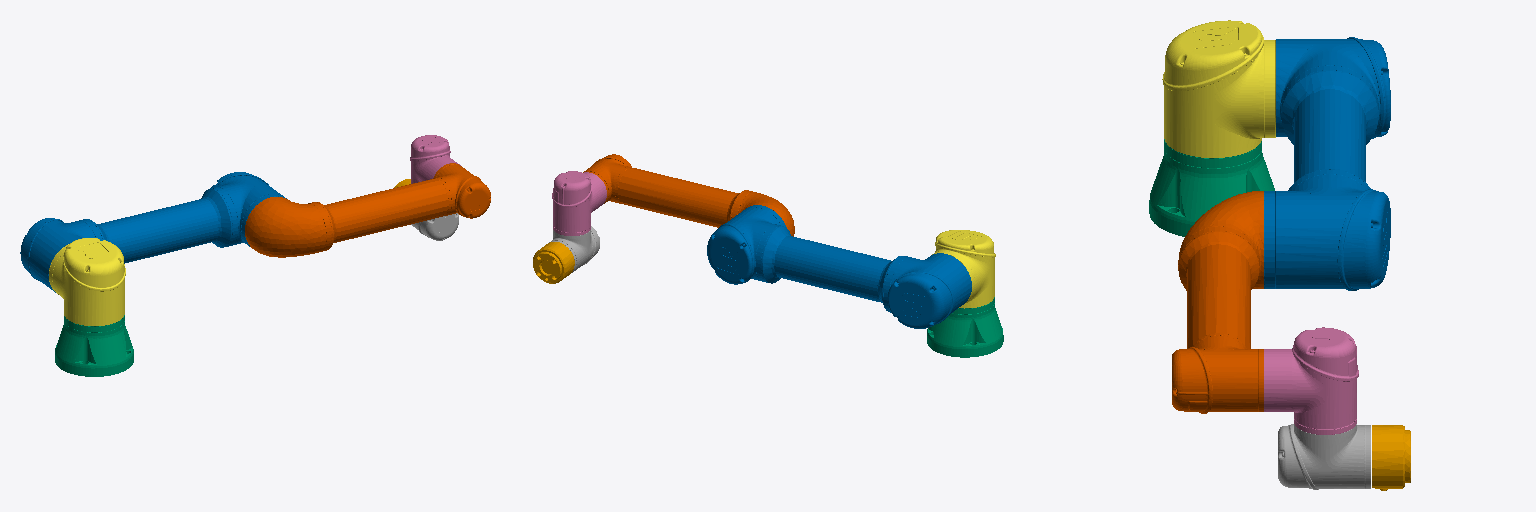
URDF robot description (ur5e):
<?xml version="1.0" ?>
<!-- =================================================================================== -->
<!-- |    This document was autogenerated by xacro from /opt/ros/jazzy/share/ur_description/urdf/ur.urdf.xacro | -->
<!-- |    EDITING THIS FILE BY HAND IS NOT RECOMMENDED                                 | -->
<!-- =================================================================================== -->
<robot name="ur5e">
  <!--
    Base UR robot series xacro macro.

    NOTE this is NOT a URDF. It cannot directly be loaded by consumers
    expecting a flattened '.urdf' file. See the top-level '.xacro' for that
    (but note that .xacro must still be processed by the xacro command).

    This file models the base kinematic chain of a UR robot, which then gets
    parameterised by various configuration files to convert it into a UR3(e),
    UR5(e), UR10(e) or UR16e.

    NOTE the default kinematic parameters (i.e., link lengths, frame locations,
    offsets, etc) do not correspond to any particular robot. They are defaults
    only. There WILL be non-zero offsets between the Forward Kinematics results
    in TF (i.e., robot_state_publisher) and the values reported by the Teach
    Pendant.

    For accurate (and robot-specific) transforms, the 'kinematics_parameters_file'
    parameter MUST point to a .yaml file containing the appropriate values for
    the targeted robot.

    If using the UniversalRobots/Universal_Robots_ROS_Driver, follow the steps
    described in the readme of that repository to extract the kinematic
    calibration from the controller and generate the required .yaml file.

    Main author of the migration to yaml configs [author].

    Contributors to previous versions (in no particular order)

     - [author]
     - [author]
     - [author]
     - [author]
     - [author]
     - [author]
     - [author]
     - [author]
     - [author]
     - [author]
     - [author]
     - [author]
     - [author]
     - [author]
     - [author]
     - [author]
     - [author]
     - [author]
     - [author]
  -->
  <!-- create link fixed to the "world" -->
  <link name="world"/>
  <!-- links -  main serial chain -->
  <link name="base_link"/>
  <link name="base_link_inertia">
    <visual>
      <origin rpy="0 0 3.141592653589793" xyz="0 0 0"/>
      <geometry>
        <mesh filename="./meshes/ur5e/visual/base.obj"/>
      </geometry>
    </visual>
    <collision>
      <origin rpy="0 0 3.141592653589793" xyz="0 0 0"/>
      <geometry>
        <mesh filename="./meshes/ur5e/collision/base.obj"/>
      </geometry>
    </collision>
    <inertial>
      <mass value="4.0"/>
      <origin rpy="0 0 0" xyz="0 0 0"/>
      <inertia ixx="0.00443333156" ixy="0.0" ixz="0.0" iyy="0.00443333156" iyz="0.0" izz="0.0072"/>
    </inertial>
  </link>
  <link name="shoulder_link">
    <visual>
      <origin rpy="0 0 3.141592653589793" xyz="0 0 0"/>
      <geometry>
        <mesh filename="./meshes/ur5e/visual/shoulder.obj"/>
      </geometry>
    </visual>
    <collision>
      <origin rpy="0 0 3.141592653589793" xyz="0 0 0"/>
      <geometry>
        <mesh filename="./meshes/ur5e/collision/shoulder.obj"/>
      </geometry>
    </collision>
    <inertial>
      <mass value="3.761"/>
      <origin rpy="1.570796326794897 0 0" xyz="0.0 -0.00193 -0.02561"/>
      <inertia ixx="0.0070021" ixy="7.3e-07" ixz="-1.053e-05" iyy="0.00648091" iyz="0.00049994" izz="0.00657286"/>
    </inertial>
  </link>
  <link name="upper_arm_link">
    <visual>
      <origin rpy="1.5707963267948966 0 -1.5707963267948966" xyz="0 0 0.138"/>
      <geometry>
        <mesh filename="./meshes/ur5e/visual/upperarm.obj"/>
      </geometry>
    </visual>
    <collision>
      <origin rpy="1.5707963267948966 0 -1.5707963267948966" xyz="0 0 0.138"/>
      <geometry>
        <mesh filename="./meshes/ur5e/collision/upperarm.obj"/>
      </geometry>
    </collision>
    <inertial>
      <mass value="8.058"/>
      <origin rpy="0 0 0" xyz="-0.2125 0.0 0.11336"/>
      <inertia ixx="0.01505885" ixy="-5.4e-05" ixz="5.63e-06" iyy="0.33388086" iyz="-1.81e-06" izz="0.33247207"/>
    </inertial>
  </link>
  <link name="forearm_link">
    <visual>
      <origin rpy="1.5707963267948966 0 -1.5707963267948966" xyz="0 0 0.007"/>
      <geometry>
        <mesh filename="./meshes/ur5e/visual/forearm.obj"/>
      </geometry>
    </visual>
    <collision>
      <origin rpy="1.5707963267948966 0 -1.5707963267948966" xyz="0 0 0.007"/>
      <geometry>
        <mesh filename="./meshes/ur5e/collision/forearm.obj"/>
      </geometry>
    </collision>
    <inertial>
      <mass value="2.846"/>
      <origin rpy="0 0 0" xyz="-0.2422 0.0 0.0265"/>
      <inertia ixx="0.00399632" ixy="-1.365e-05" ixz="0.00137272" iyy="0.07879254" iyz="-6.6e-06" izz="0.0784851"/>
    </inertial>
  </link>
  <link name="wrist_1_link">
    <visual>
      <origin rpy="1.5707963267948966 0 0" xyz="0 0 -0.127"/>
      <geometry>
        <mesh filename="./meshes/ur5e/visual/wrist1.obj"/>
      </geometry>
    </visual>
    <collision>
      <origin rpy="1.5707963267948966 0 0" xyz="0 0 -0.127"/>
      <geometry>
        <mesh filename="./meshes/ur5e/collision/wrist1.obj"/>
      </geometry>
    </collision>
    <inertial>
      <mass value="1.37"/>
      <origin rpy="1.570796326794897 0 0" xyz="0.0 -0.01634 -0.0018"/>
      <inertia ixx="0.00165491" ixy="-2.82e-06" ixz="-4.38e-06" iyy="0.00135962" iyz="0.00010157" izz="0.00126279"/>
    </inertial>
  </link>
  <link name="wrist_2_link">
    <visual>
      <origin rpy="0 0 0" xyz="0 0 -0.0997"/>
      <geometry>
        <mesh filename="./meshes/ur5e/visual/wrist2.obj"/>
      </geometry>
    </visual>
    <collision>
      <origin rpy="0 0 0" xyz="0 0 -0.0997"/>
      <geometry>
        <mesh filename="./meshes/ur5e/collision/wrist2.obj"/>
      </geometry>
    </collision>
    <inertial>
      <mass value="1.3"/>
      <origin rpy="-1.570796326794897 0 0" xyz="0.0 0.01634 -0.0018"/>
      <inertia ixx="0.00135617" ixy="-2.74e-06" ixz="4.44e-06" iyy="0.00127827" iyz="-5.048e-05" izz="0.00096614"/>
    </inertial>
  </link>
  <link name="wrist_3_link">
    <visual>
      <origin rpy="1.5707963267948966 0 0" xyz="0 0 -0.0989"/>
      <geometry>
        <mesh filename="./meshes/ur5e/visual/wrist3.obj"/>
      </geometry>
    </visual>
    <collision>
      <origin rpy="1.5707963267948966 0 0" xyz="0 0 -0.0989"/>
      <geometry>
        <mesh filename="./meshes/ur5e/collision/wrist3.obj"/>
      </geometry>
    </collision>
    <inertial>
      <mass value="0.365"/>
      <origin rpy="0 0 0" xyz="0.0 0.0 -0.001159"/>
      <inertia ixx="0.00018694" ixy="6e-08" ixz="-1.7e-07" iyy="0.00018908" iyz="-9.2e-07" izz="0.00025756"/>
    </inertial>
  </link>
  <!-- base_joint fixes base_link to the environment -->
  <joint name="base_joint" type="fixed">
    <origin rpy="0 0 0" xyz="0 0 0"/>
    <parent link="world"/>
    <child link="base_link"/>
  </joint>
  <!-- joints - main serial chain -->
  <joint name="base_link-base_link_inertia" type="fixed">
    <parent link="base_link"/>
    <child link="base_link_inertia"/>
    <!-- 'base_link' is REP-103 aligned (so X+ forward), while the internal
           frames of the robot/controller have X+ pointing backwards.
           Use the joint between 'base_link' and 'base_link_inertia' (a dummy
           link/frame) to introduce the necessary rotation over Z (of pi rad).
      -->
    <origin rpy="0 0 3.141592653589793" xyz="0 0 0"/>
  </joint>
  <joint name="shoulder_pan_joint" type="revolute">
    <parent link="base_link_inertia"/>
    <child link="shoulder_link"/>
    <origin rpy="0 0 0" xyz="0 0 0.1625"/>
    <axis xyz="0 0 1"/>
    <limit effort="150.0" lower="-6.283185307179586" upper="6.283185307179586" velocity="3.141592653589793"/>
    <dynamics damping="0" friction="0"/>
  </joint>
  <joint name="shoulder_lift_joint" type="revolute">
    <parent link="shoulder_link"/>
    <child link="upper_arm_link"/>
    <origin rpy="1.570796327 0 0" xyz="0 0 0"/>
    <axis xyz="0 0 1"/>
    <limit effort="150.0" lower="-6.283185307179586" upper="6.283185307179586" velocity="3.141592653589793"/>
    <dynamics damping="0" friction="0"/>
  </joint>
  <joint name="elbow_joint" type="revolute">
    <parent link="upper_arm_link"/>
    <child link="forearm_link"/>
    <origin rpy="0 0 0" xyz="-0.425 0 0"/>
    <axis xyz="0 0 1"/>
    <limit effort="150.0" lower="-3.141592653589793" upper="3.141592653589793" velocity="3.141592653589793"/>
    <dynamics damping="0" friction="0"/>
  </joint>
  <joint name="wrist_1_joint" type="revolute">
    <parent link="forearm_link"/>
    <child link="wrist_1_link"/>
    <origin rpy="0 0 0" xyz="-0.3922 0 0.1333"/>
    <axis xyz="0 0 1"/>
    <limit effort="28.0" lower="-6.283185307179586" upper="6.283185307179586" velocity="3.141592653589793"/>
    <dynamics damping="0" friction="0"/>
  </joint>
  <joint name="wrist_2_joint" type="revolute">
    <parent link="wrist_1_link"/>
    <child link="wrist_2_link"/>
    <origin rpy="1.570796327 0 0" xyz="0 -0.0997 -2.044881182297852e-11"/>
    <axis xyz="0 0 1"/>
    <limit effort="28.0" lower="-6.283185307179586" upper="6.283185307179586" velocity="3.141592653589793"/>
    <dynamics damping="0" friction="0"/>
  </joint>
  <joint name="wrist_3_joint" type="revolute">
    <parent link="wrist_2_link"/>
    <child link="wrist_3_link"/>
    <origin rpy="1.570796326589793 3.141592653589793 3.141592653589793" xyz="0 0.0996 -2.042830148012698e-11"/>
    <axis xyz="0 0 1"/>
    <limit effort="28.0" lower="-6.283185307179586" upper="6.283185307179586" velocity="3.141592653589793"/>
    <dynamics damping="0" friction="0"/>
  </joint>
  <link name="ft_frame"/>
  <joint name="wrist_3_link-ft_frame" type="fixed">
    <parent link="wrist_3_link"/>
    <child link="ft_frame"/>
    <origin rpy="3.141592653589793 0 0" xyz="0 0 0"/>
  </joint>
  <!-- ROS-Industrial 'base' frame - base_link to UR 'Base' Coordinates transform -->
  <link name="base"/>
  <joint name="base_link-base_fixed_joint" type="fixed">
    <!-- Note the rotation over Z of pi radians - as base_link is REP-103
           aligned (i.e., has X+ forward, Y+ left and Z+ up), this is needed
           to correctly align 'base' with the 'Base' coordinate system of
           the UR controller.
      -->
    <origin rpy="0 0 3.141592653589793" xyz="0 0 0"/>
    <parent link="base_link"/>
    <child link="base"/>
  </joint>
  <!-- ROS-Industrial 'flange' frame - attachment point for EEF models -->
  <link name="flange"/>
  <joint name="wrist_3-flange" type="fixed">
    <parent link="wrist_3_link"/>
    <child link="flange"/>
    <origin rpy="0 -1.5707963267948966 -1.5707963267948966" xyz="0 0 0"/>
  </joint>
  <!-- ROS-Industrial 'tool0' frame - all-zeros tool frame -->
  <link name="tool0"/>
  <joint name="flange-tool0" type="fixed">
    <!-- default toolframe - X+ left, Y+ up, Z+ front -->
    <origin rpy="1.5707963267948966 0 1.5707963267948966" xyz="0 0 0"/>
    <parent link="flange"/>
    <child link="tool0"/>
  </joint>
</robot>

--- Facts derived from the render (not from the file) ---
Views: 3 orthographic renders of the robot side by side, from view 1: azimuth 30°, elevation 25°; view 2: azimuth 150°, elevation 25°; view 3: azimuth 270°, elevation 25°.
Robot: ur5e — 13 links, 12 joints (6 revolute, 6 fixed); root link world; default pose: all joints at 0.
Links seen in each view (by area): view 1: forearm_link, upper_arm_link, shoulder_link, base_link_inertia, wrist_1_link, wrist_2_link; view 2: upper_arm_link, forearm_link, base_link_inertia, wrist_1_link, shoulder_link, wrist_3_link, wrist_2_link; view 3: upper_arm_link, forearm_link, shoulder_link, wrist_1_link, base_link_inertia, wrist_2_link, wrist_3_link.
Link boxes in pixels (box(x1,y1,x2,y2)): forearm_link: box(245, 163, 490, 257); upper_arm_link: box(20, 172, 286, 292); shoulder_link: box(49, 238, 125, 325); base_link_inertia: box(55, 315, 133, 376); wrist_1_link: box(410, 135, 460, 183); wrist_2_link: box(411, 213, 458, 240); upper_arm_link: box(707, 205, 971, 328); forearm_link: box(583, 154, 794, 236); base_link_inertia: box(927, 297, 1003, 357); wrist_1_link: box(552, 171, 606, 235); shoulder_link: box(932, 230, 995, 308); wrist_3_link: box(533, 242, 574, 283); wrist_2_link: box(549, 226, 599, 272); upper_arm_link: box(1264, 37, 1390, 290); forearm_link: box(1172, 191, 1263, 413); shoulder_link: box(1162, 20, 1275, 157); wrist_1_link: box(1264, 327, 1358, 434); base_link_inertia: box(1149, 139, 1274, 236); wrist_2_link: box(1278, 424, 1370, 489); wrist_3_link: box(1372, 425, 1410, 490).
Size in the robot's own frame: 0.932 by 0.3085 by 0.234 metres.
7 mesh visuals loaded from 7 distinct referenced files (7 OBJ).